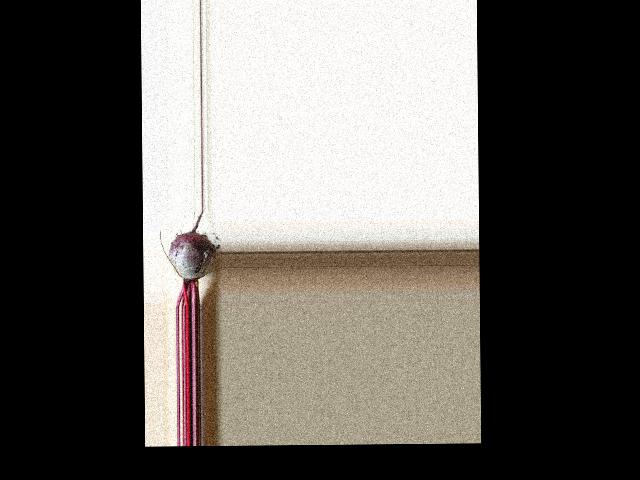beet: (159, 210, 216, 306)
